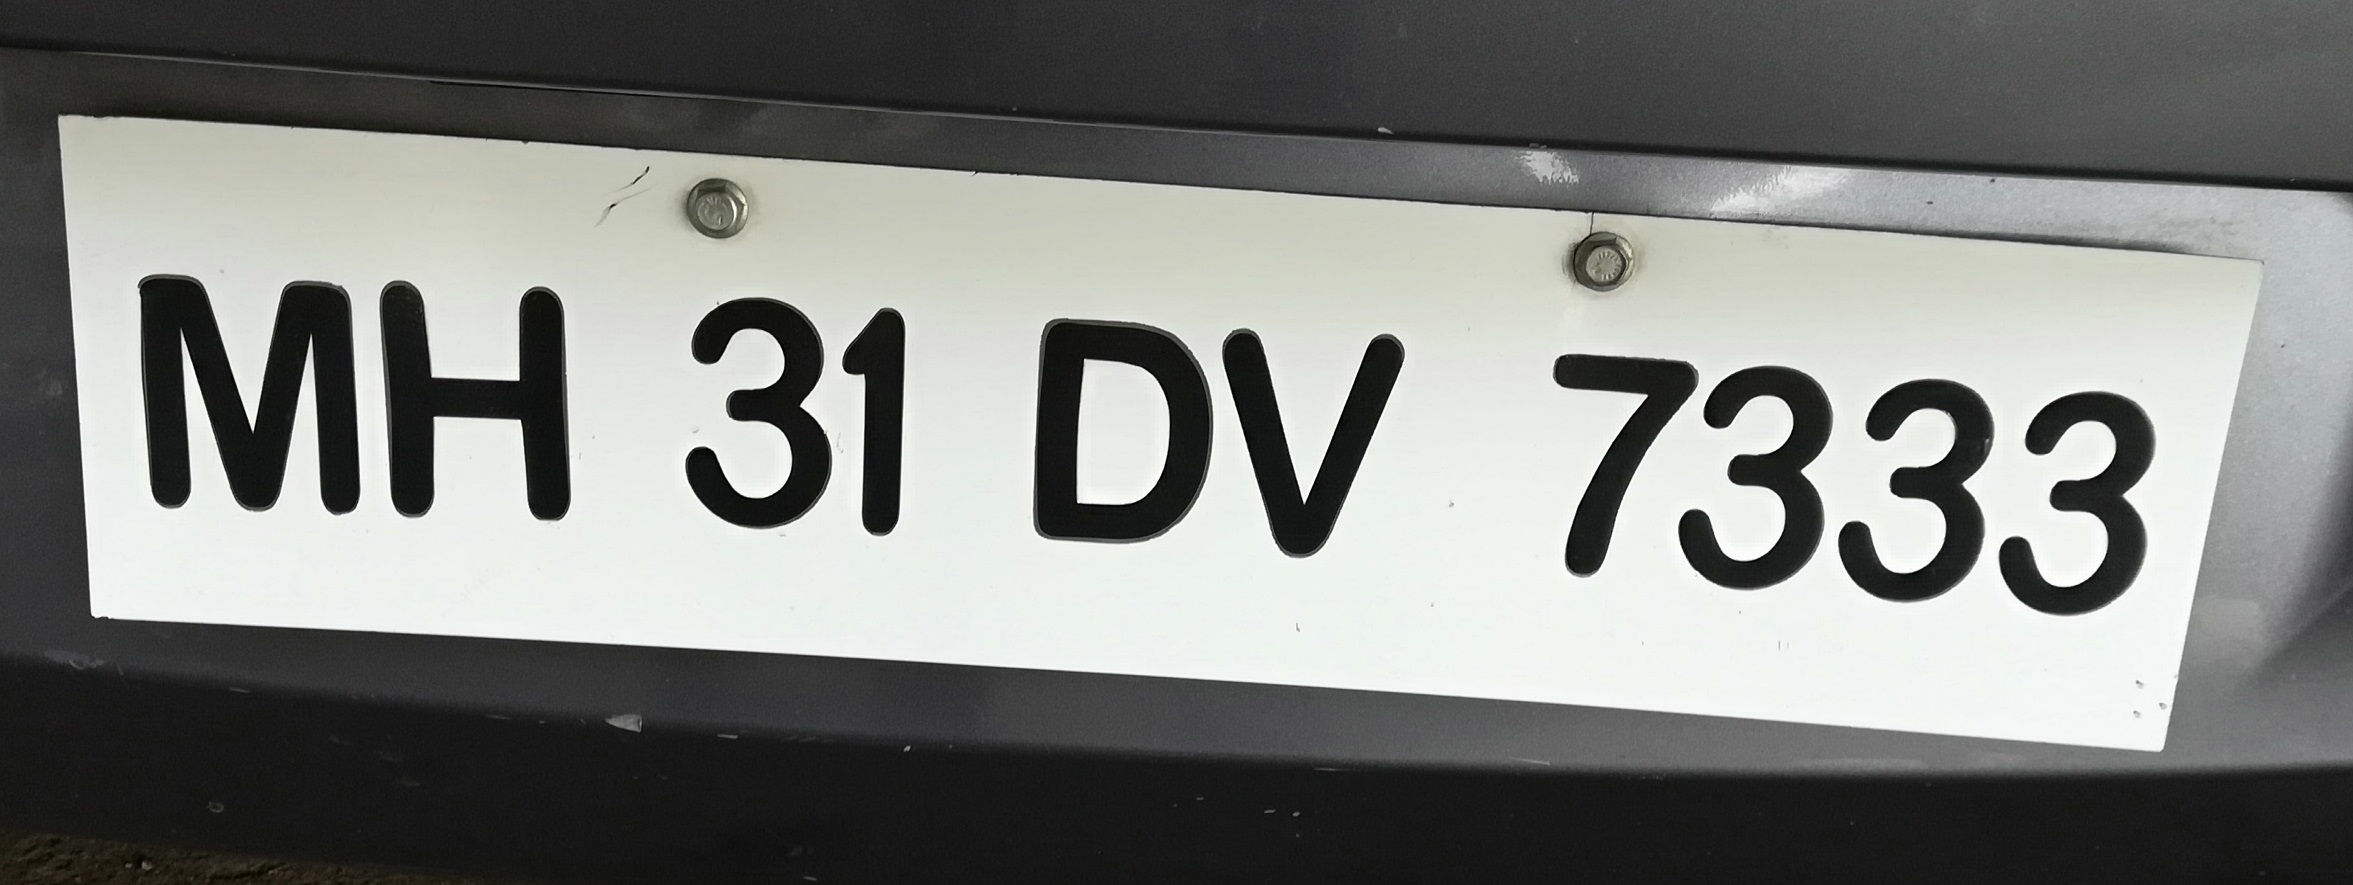numberplate: (36, 92, 2266, 752)
